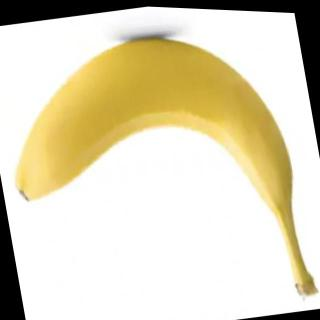banana: (0, 7, 302, 261)
